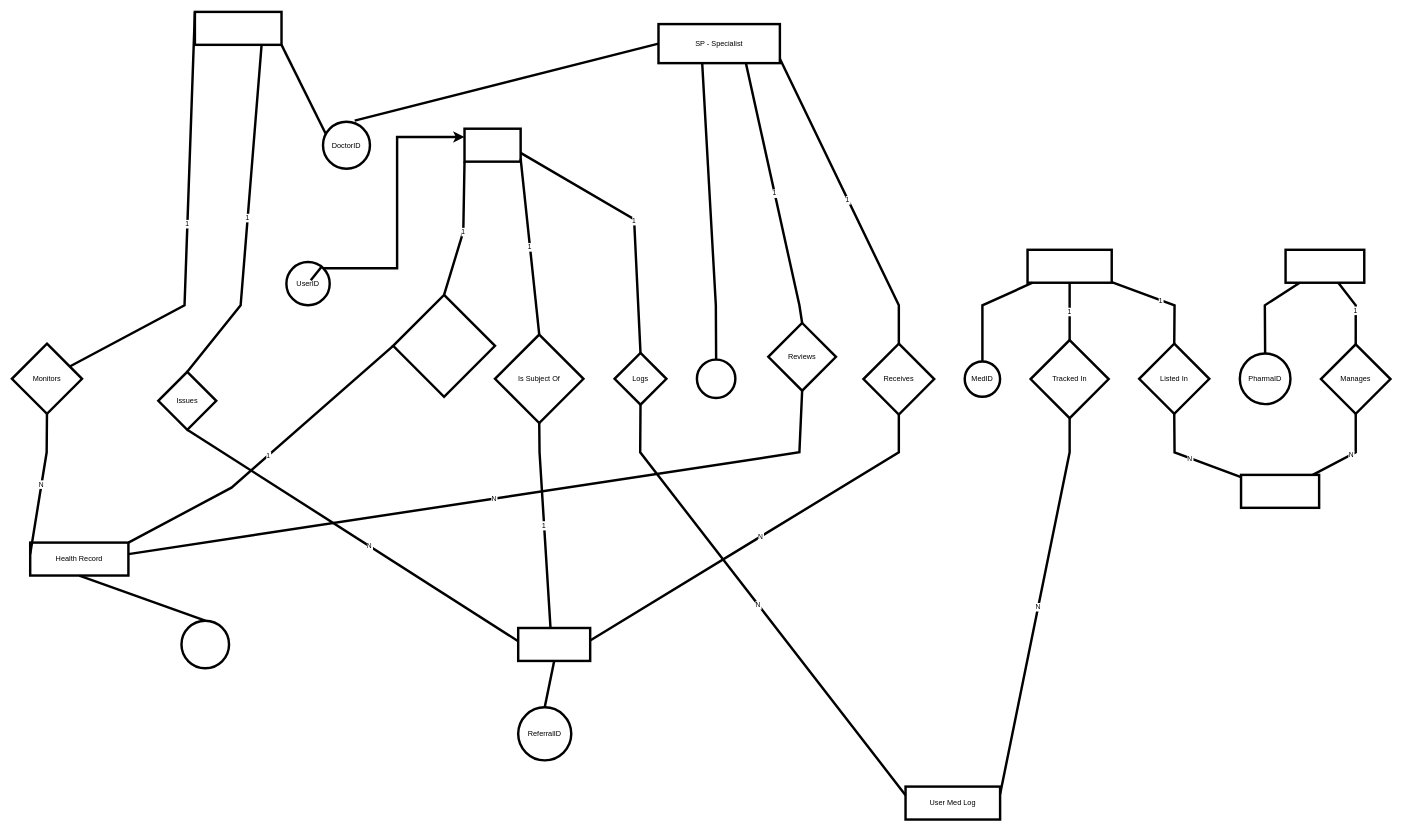
Some shapes in this 1402 by 831 pixel diagram are drawn without their labels. Each missing label, with the box of its shape:
Creates & Owns: (392, 293, 496, 398)
GP - Doctor: (193, 10, 282, 46)
Inventory: (1240, 473, 1320, 509)
Medication: (1026, 248, 1113, 284)
Pharmacy: (1284, 248, 1365, 284)
RecordID: (180, 619, 230, 669)
Referral: (517, 626, 591, 662)
SpecID: (695, 358, 736, 399)
User: (463, 127, 522, 163)
